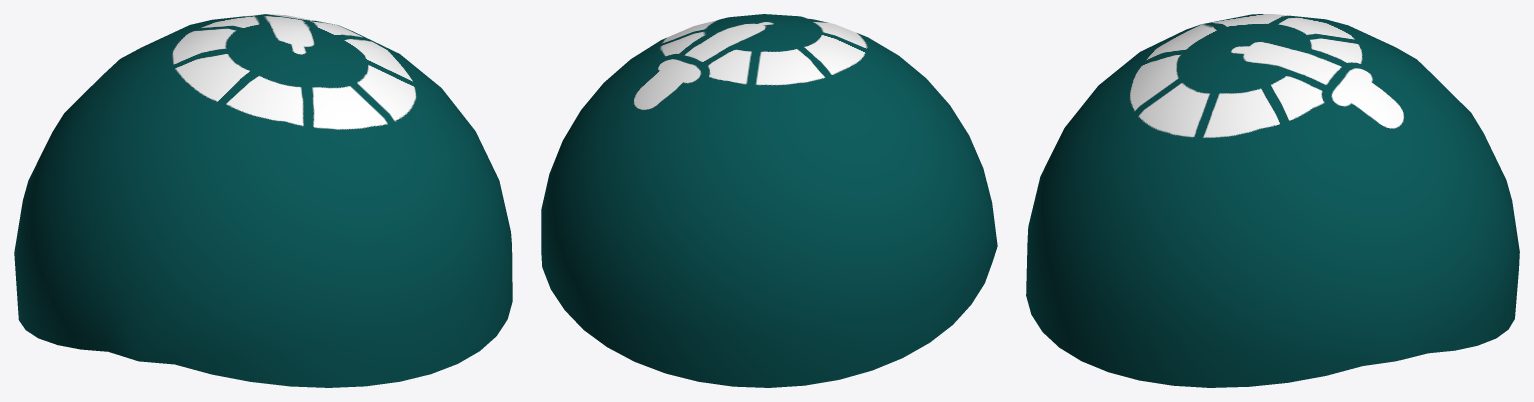
File: Palette_Button_ColorPicker.fbx
The picture shows the model from 3 angles, left to right: view 1: azimuth 30°, elevation 25°; view 2: azimuth 150°, elevation 25°; view 3: azimuth 270°, elevation 25°; orthographic projection. The views are drawn at different scales.
Parts seen in each view (by area): view 1: pSphere42; view 2: pSphere42; view 3: pSphere42.
Part boxes in pixels (x1=…): pSphere42: x1=14, y1=14, x2=512, y2=387; pSphere42: x1=541, y1=14, x2=997, y2=387; pSphere42: x1=1026, y1=14, x2=1519, y2=387.
Bounding box in the file's own units: 2.91 × 1.82 × 2.91.
Materials: 1 (1 with a texture image).
